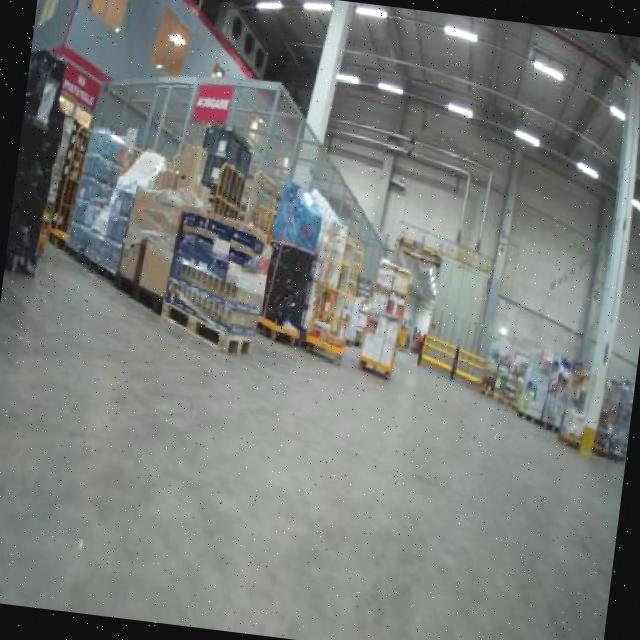pallet: (148, 289, 264, 366)
